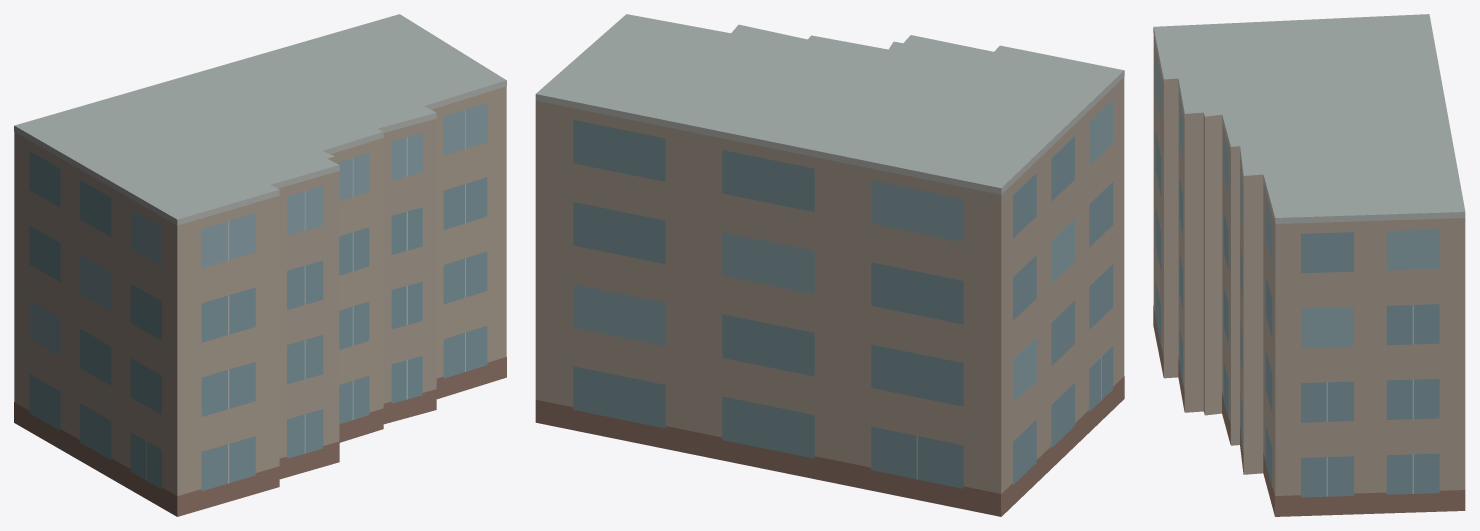
Rendered from survey-upis-32825779.glb.
3 views of the same model, side by side, from view 1: azimuth 30°, elevation 25°; view 2: azimuth 150°, elevation 25°; view 3: azimuth 270°, elevation 25° (orthographic). The views are drawn at different scales.
Visible parts, largest first — view 1: survey-upis-32825779.tmp; view 2: survey-upis-32825779.tmp; view 3: survey-upis-32825779.tmp.
Boxes of the visible parts, x1,y1,x2,y2 form: survey-upis-32825779.tmp: (14,14,506,516); survey-upis-32825779.tmp: (535,14,1124,516); survey-upis-32825779.tmp: (1153,14,1465,516).
Size of the model in its own units: 17.87 by 12.2 by 11.55.
